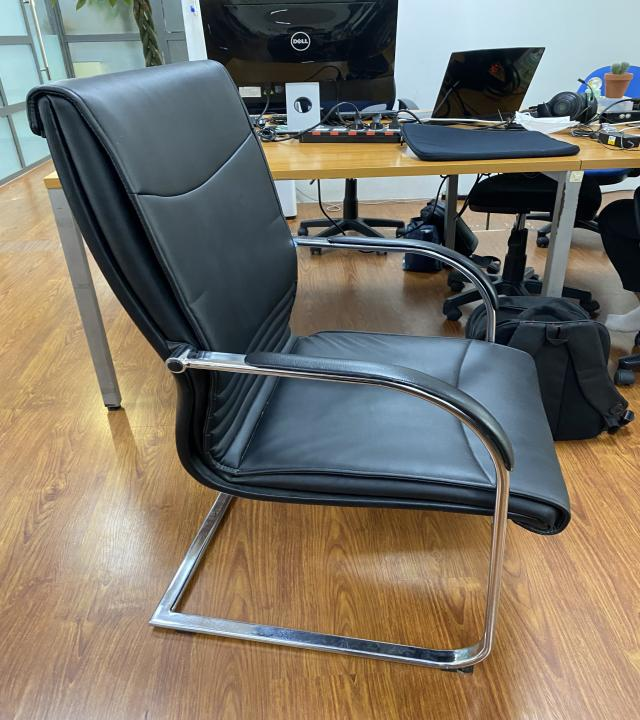SS_03: (21, 57, 572, 674)
